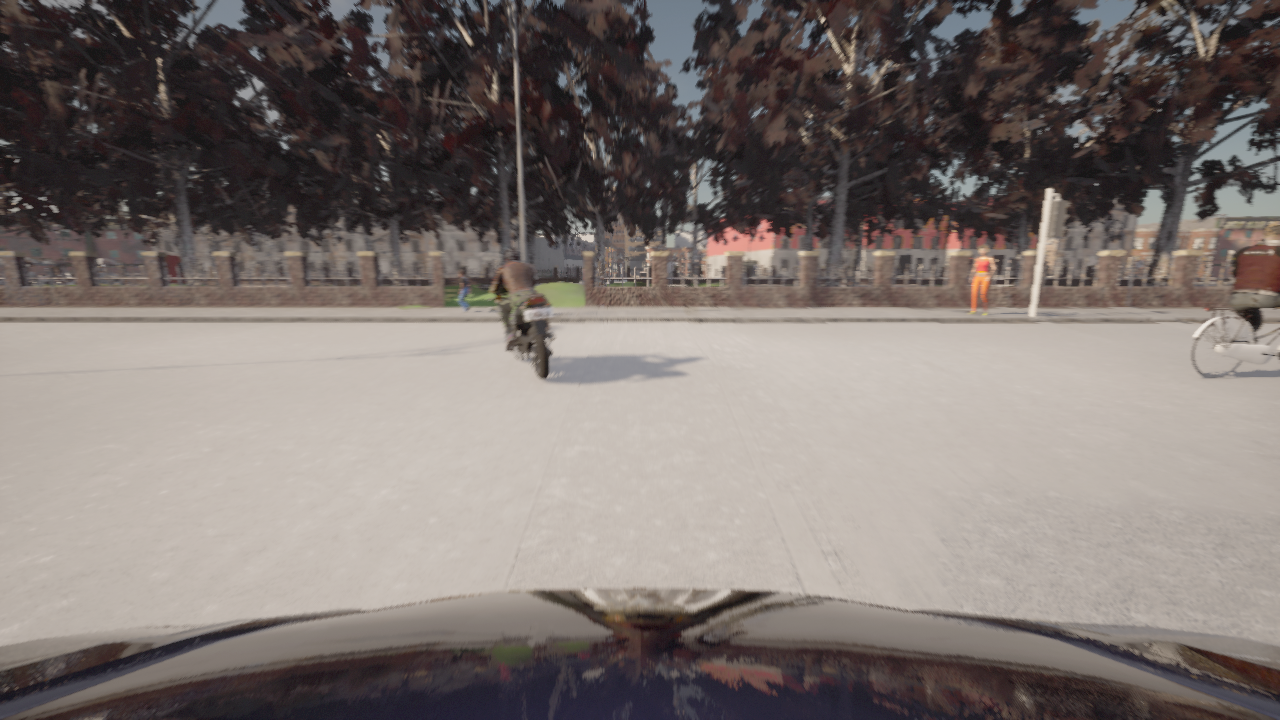cyclist: (0, 588, 1279, 719), (478, 279, 554, 379), (1191, 307, 1279, 377)
pedestrian: (968, 245, 994, 314), (458, 270, 470, 312)
